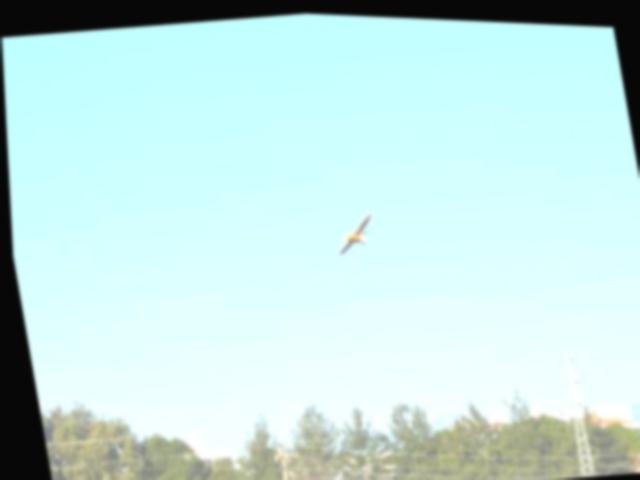iha: (331, 209, 374, 253)
